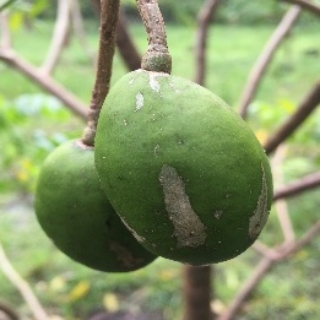coc: (95, 68, 274, 266)
